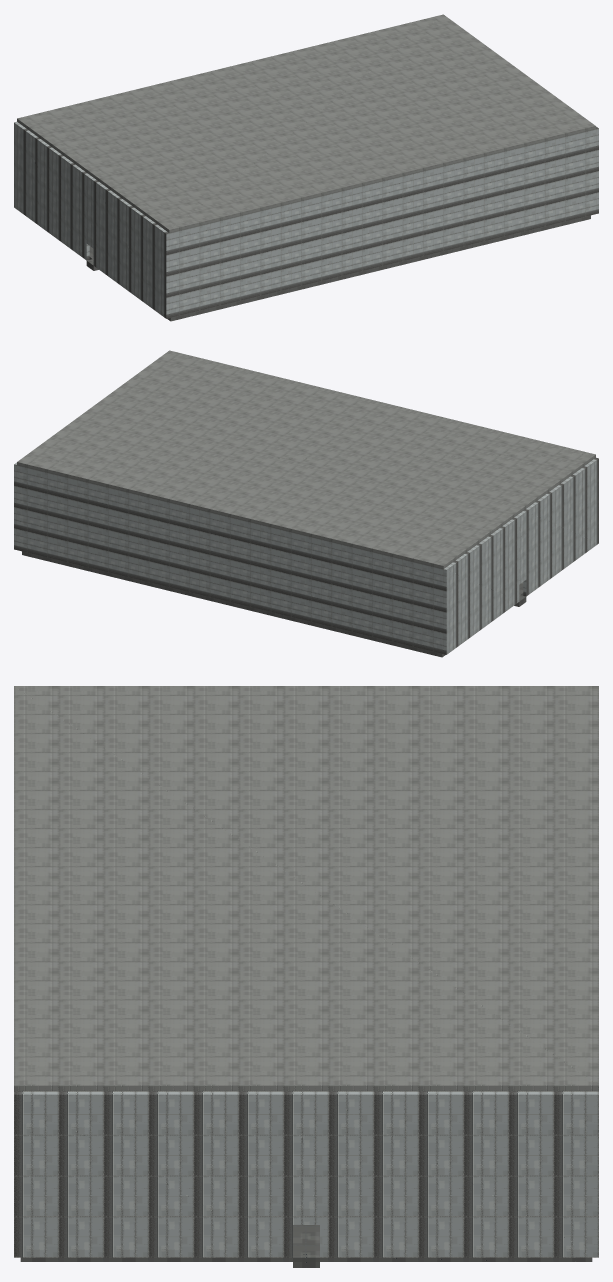
The model's file is shell_yard_gantry.glb.
3 views of the same model, one above another, from view 1: azimuth 30°, elevation 25°; view 2: azimuth 150°, elevation 25°; view 3: azimuth 270°, elevation 25° (orthographic). The views are drawn at different scales.
Visible parts, largest first — view 1: yd; view 2: yd; view 3: yd.
Boxes of the visible parts, left/top/right/bottom form: yd: left=14, top=14, right=598, bottom=321; yd: left=14, top=350, right=598, bottom=657; yd: left=14, top=686, right=598, bottom=1267.
Size of what is drawn, in the model's own units: 85.2 by 17.6 by 52.
45 materials, 45 textured.
